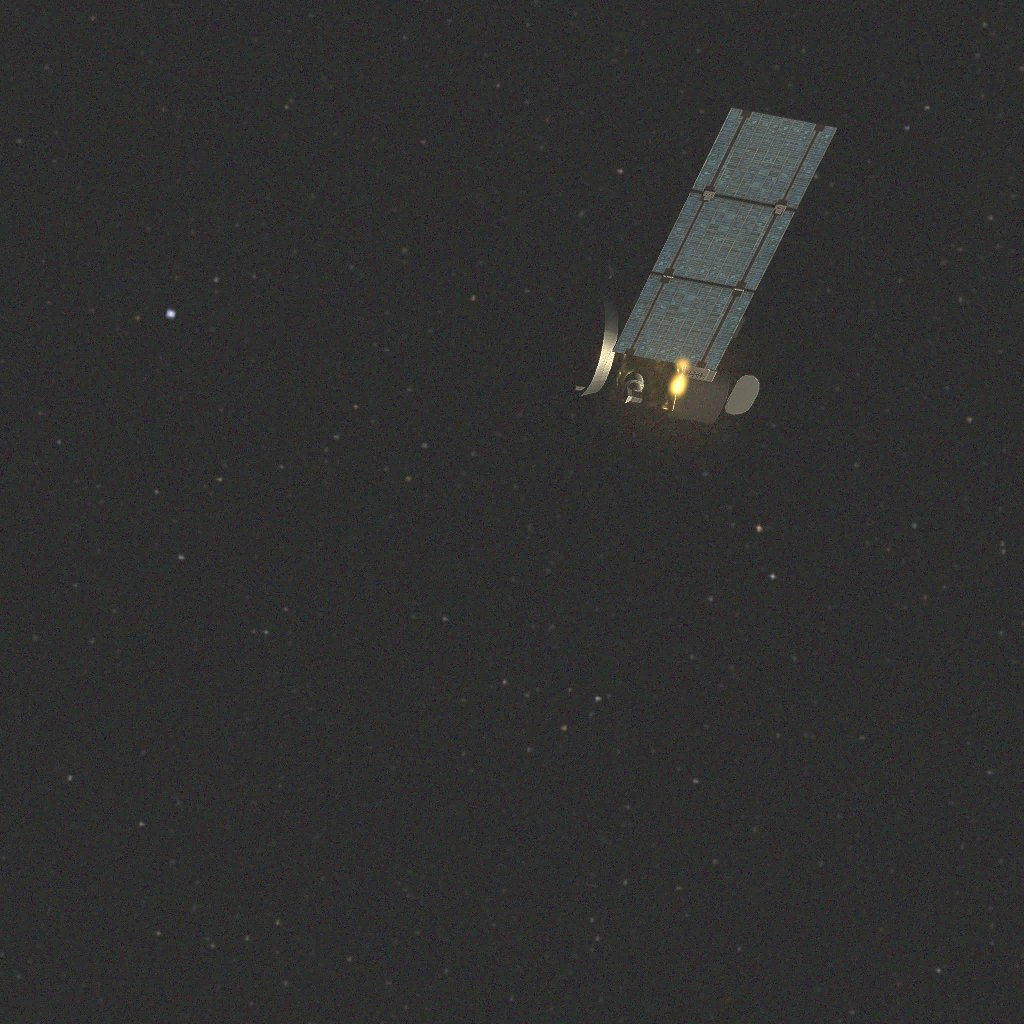earth_observation_sat_1: (567, 106, 837, 429)
